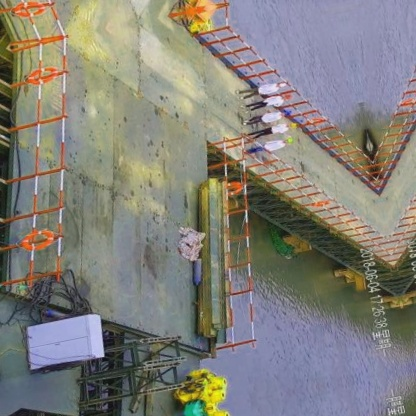blue: (284, 110, 292, 117)
red: (286, 93, 294, 100)
white: (279, 81, 289, 88)
yellow: (287, 137, 295, 144)
